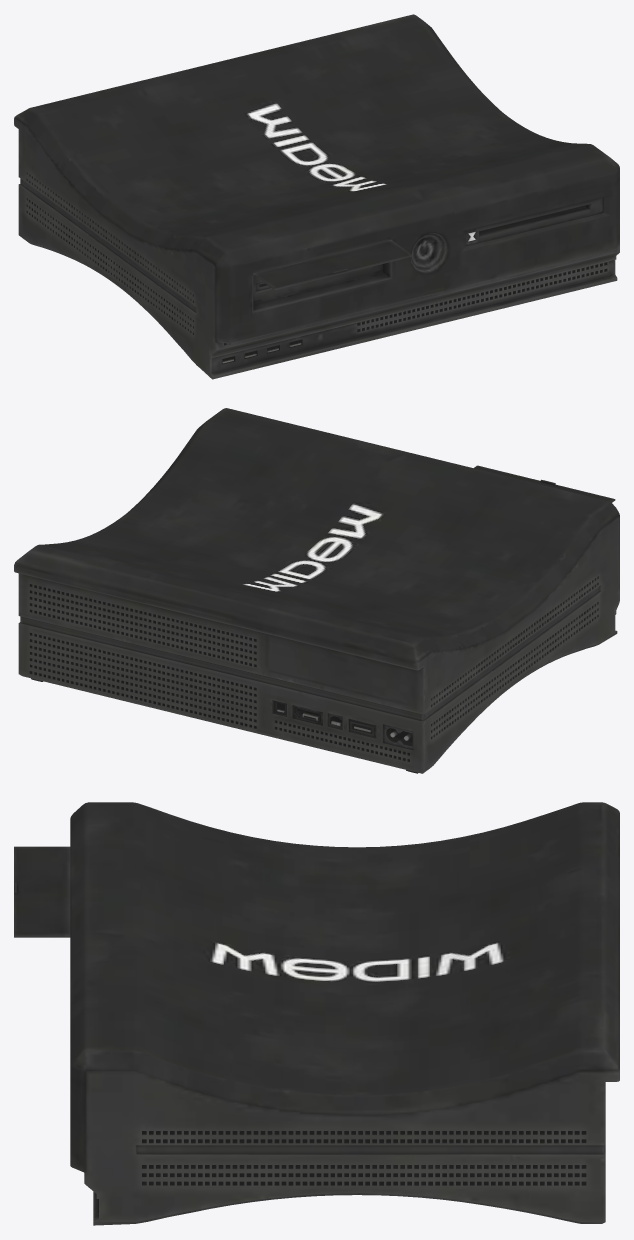
Rendered from gaming_console.glb.
3 renders of one model, top to bottom at view 1: azimuth 30°, elevation 25°; view 2: azimuth 150°, elevation 25°; view 3: azimuth 270°, elevation 25°, orthographic. The views are drawn at different scales.
Visible parts, largest first — view 1: gaming_console; view 2: gaming_console; view 3: gaming_console.
Boxes of the visible parts, x1,y1,x2,y2 form: gaming_console: [14, 14, 619, 379]; gaming_console: [14, 408, 619, 773]; gaming_console: [14, 802, 619, 1225].
Size of the model in its own units: 0.325 by 0.1003 by 0.3185.
Materials: 1 (1 with a texture image).
